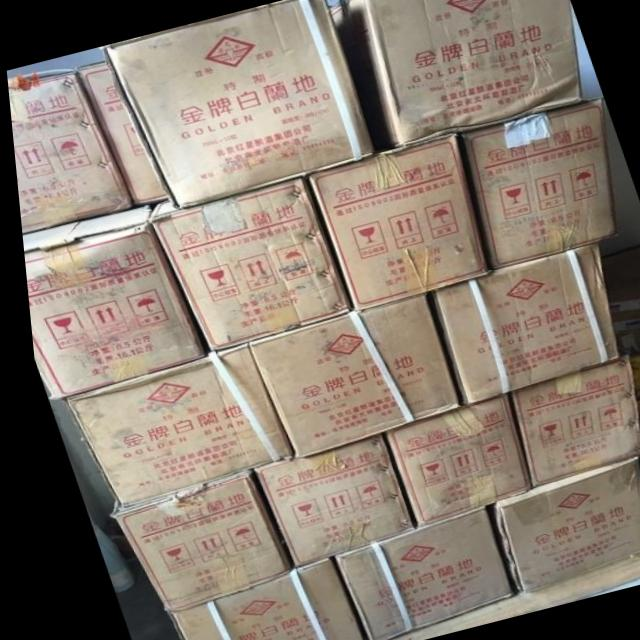box: (98, 0, 371, 208), (55, 342, 284, 509), (328, 0, 580, 148), (18, 203, 204, 401), (144, 176, 347, 352), (243, 293, 452, 459), (304, 133, 481, 312), (423, 242, 614, 406), (459, 98, 614, 272), (103, 467, 279, 614), (322, 505, 502, 640), (481, 457, 640, 594), (243, 432, 404, 567), (6, 67, 129, 232), (375, 395, 520, 527), (503, 356, 634, 487), (157, 556, 352, 640), (74, 61, 165, 206)
